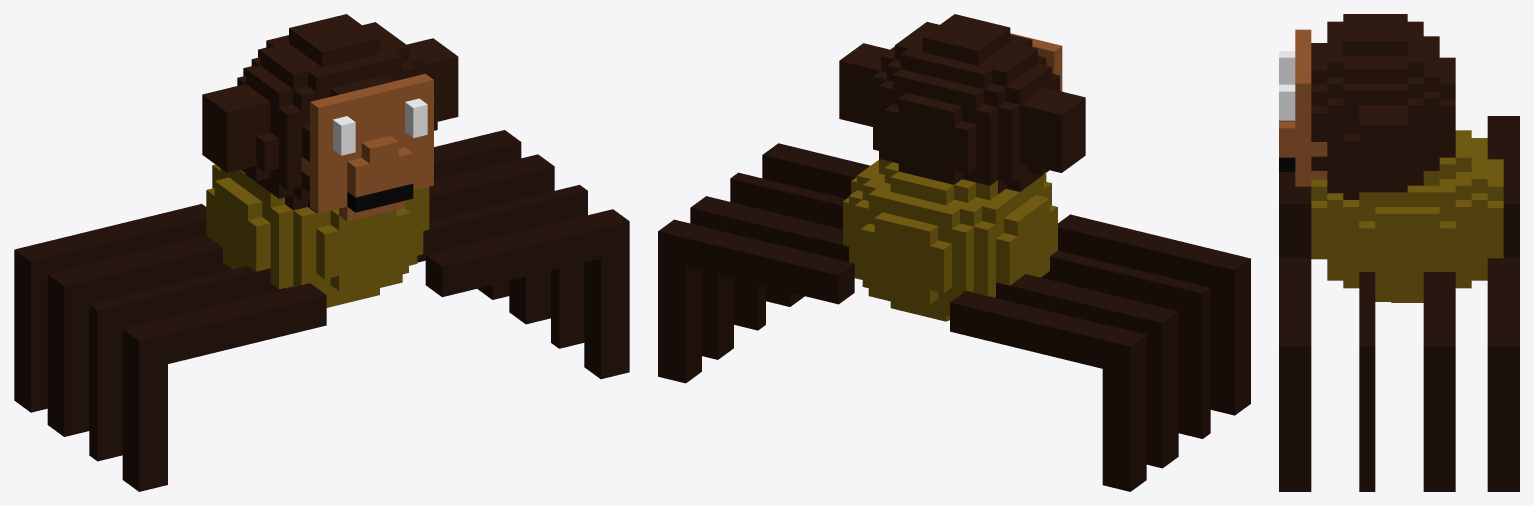
File: chimpanzini_spiderini.glb
3 renders of one model, left to right at view 1: azimuth 30°, elevation 25°; view 2: azimuth 150°, elevation 25°; view 3: azimuth 270°, elevation 25°, orthographic. The views are drawn at different scales.
Parts seen in each view (by area): view 1: brainrot; view 2: brainrot; view 3: brainrot.
Boxes of the visible parts, x1,y1,x2,y2 form: brainrot: [14, 14, 629, 491]; brainrot: [658, 14, 1250, 491]; brainrot: [1279, 14, 1519, 491].
Bounding box in the file's own units: 7.08 × 5 × 3.12.
1 material, 1 textured.
